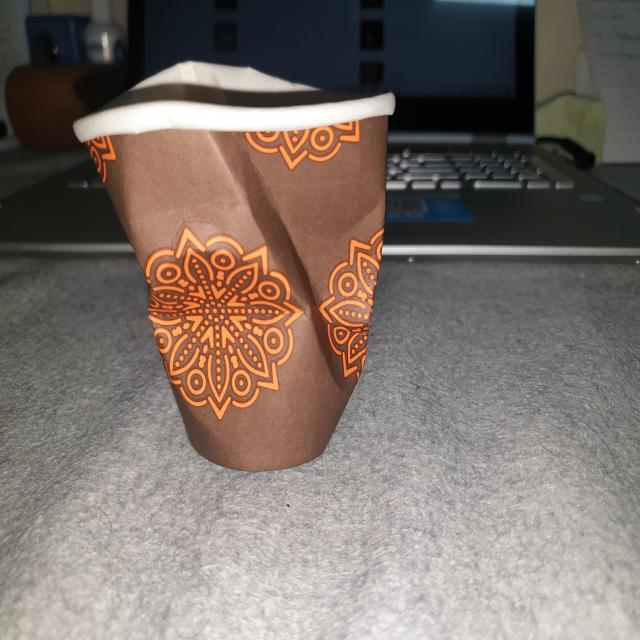cups: (66, 32, 408, 482)
